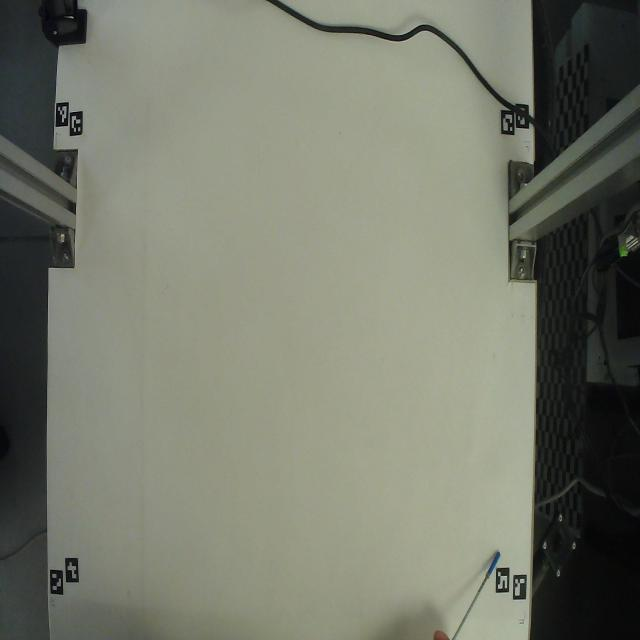Pres: (443, 533, 514, 640)
